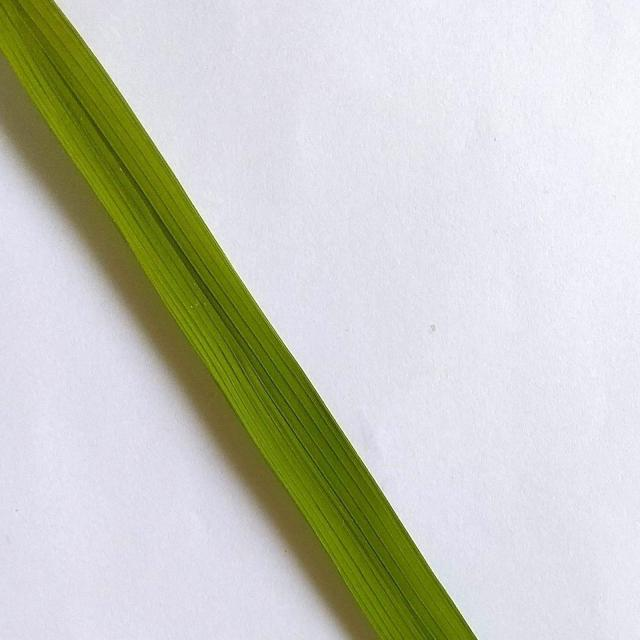healthy: (0, 1, 485, 640)
